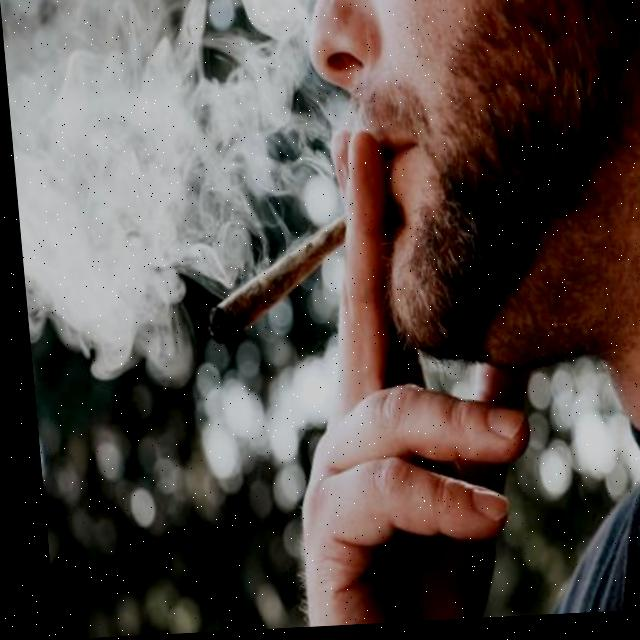cigarette: (195, 224, 353, 347)
